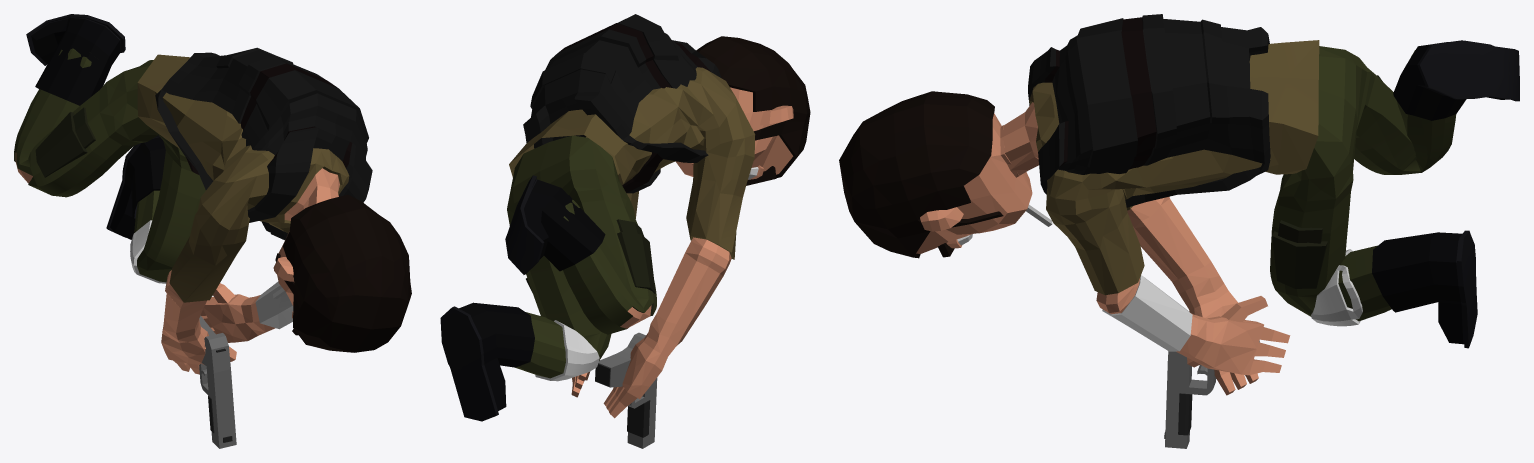
Rendered from frame_0055.obj.
3 renders of one model, left to right at view 1: azimuth 30°, elevation 25°; view 2: azimuth 150°, elevation 25°; view 3: azimuth 270°, elevation 25°, orthographic. The views are drawn at different scales.
Parts seen in each view (by area): view 1: Body, Gun; view 2: Body, Gun; view 3: Body, Gun.
Part boxes in pixels (x1=…): Body: x1=14, y1=14, x2=411, y2=374; Gun: x1=199, y1=315, x2=236, y2=448; Body: x1=440, y1=14, x2=810, y2=421; Gun: x1=595, y1=332, x2=657, y2=448; Body: x1=839, y1=14, x2=1519, y2=395; Gun: x1=1164, y1=341, x2=1259, y2=448.
Bounding box in the file's own units: 1.42 × 2.42 × 3.38.
